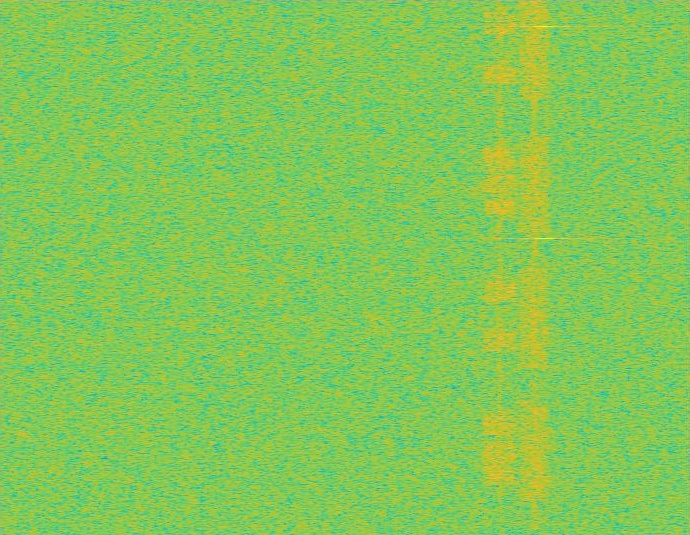5G: (518, 0, 552, 534)
DSSS: (531, 0, 539, 534), (498, 0, 503, 534)
LTE: (483, 0, 518, 534)
Radar: (538, 0, 552, 534)
